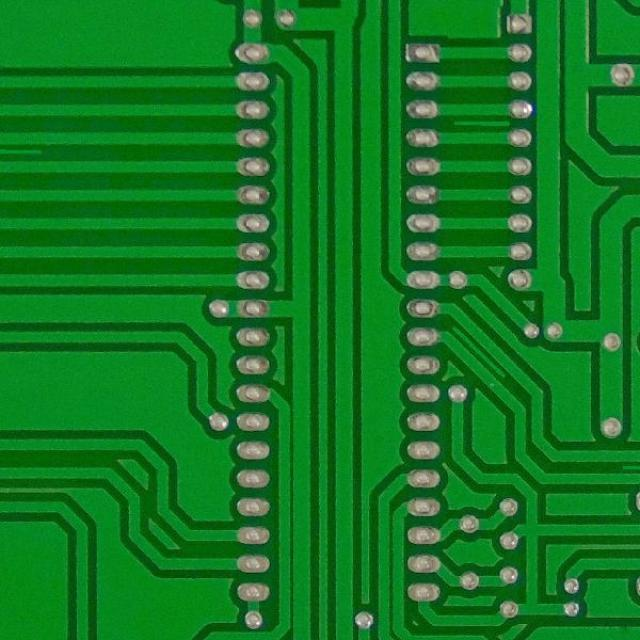spurious_copper: (450, 322, 509, 381), (447, 113, 516, 137), (1, 138, 44, 161), (616, 457, 639, 480)
